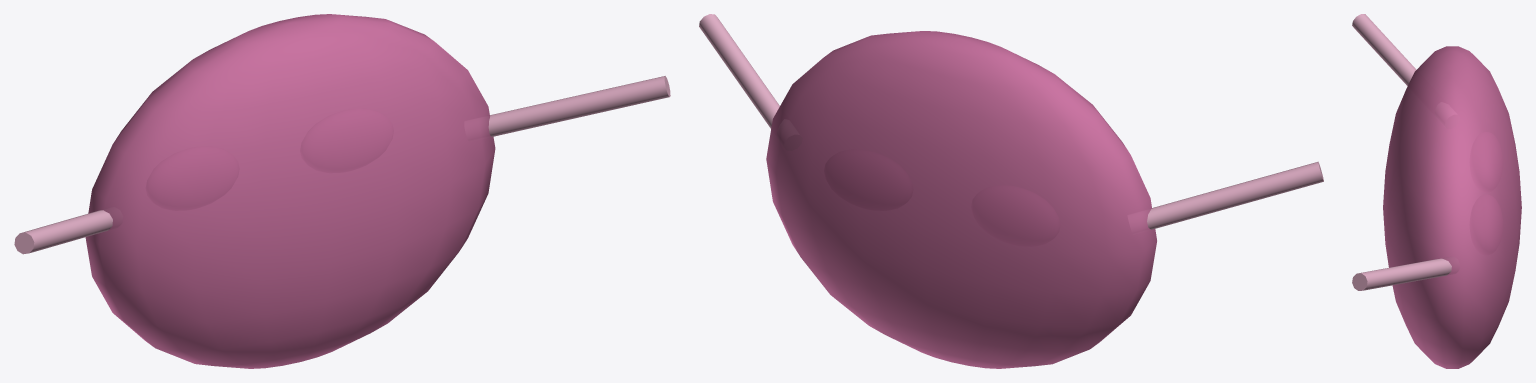
The model's file is VM-DAM-SH40718759.glb.
3 views of the same model, side by side, from view 1: azimuth 30°, elevation 25°; view 2: azimuth 150°, elevation 25°; view 3: azimuth 270°, elevation 25° (orthographic). The views are drawn at different scales.
Visible parts, largest first — view 1: 9 Máscaras de Encaje Fiesta; view 2: 9 Máscaras de Encaje Fiesta; view 3: 9 Máscaras de Encaje Fiesta.
Part boxes in pixels (<box>): 9 Máscaras de Encaje Fiesta: <box>14,14,670,368</box>; 9 Máscaras de Encaje Fiesta: <box>699,14,1323,368</box>; 9 Máscaras de Encaje Fiesta: <box>1352,14,1521,368</box>.
Bounding box in the file's own units: 0.4072 × 0.2 × 0.11.
